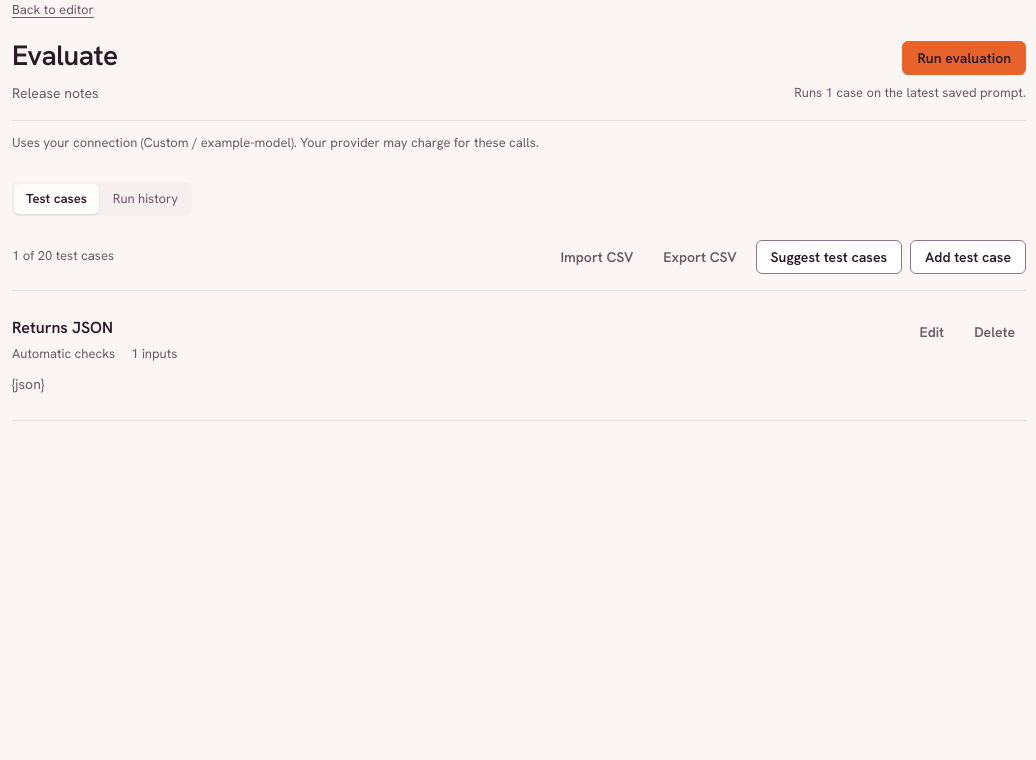
keeps failed edits on screen and sends empty strings when clearing stored fields
Check: the heading "Evaluate" is shown, box [12,33,118,78]
Click the button with aria-label "Edit Returns JSON". click: click(932, 332)
box: [909,315,955,349]
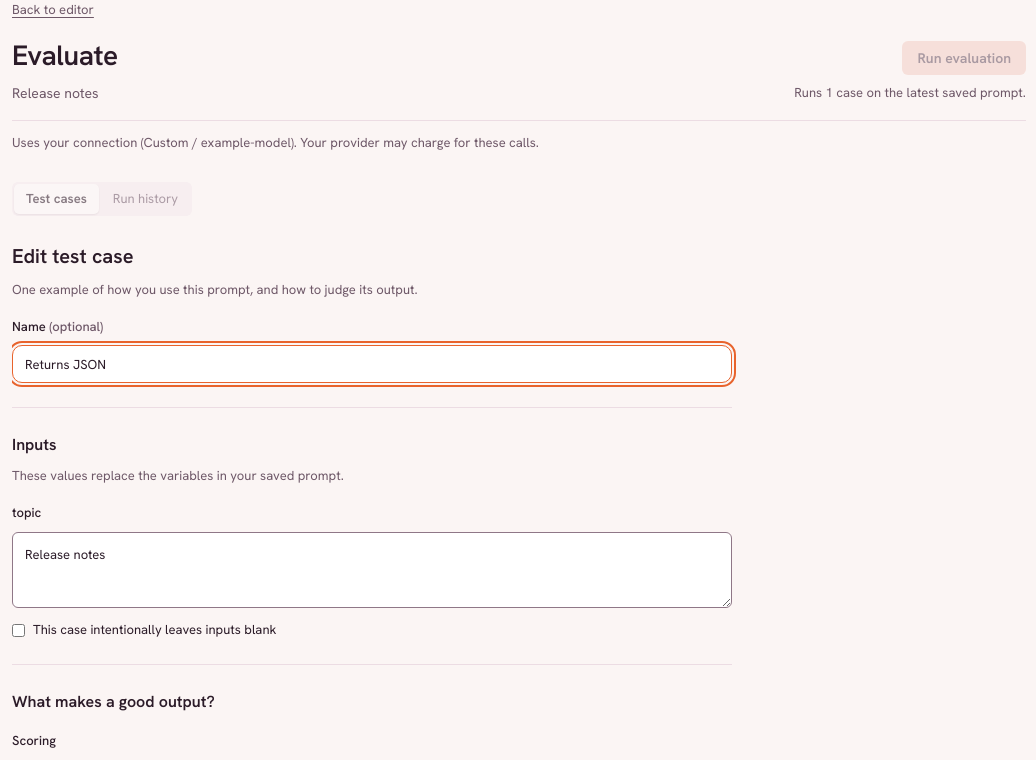
Clear the field labelled "Name (optional)". click: (372, 364)
box: [12,345,732,383]
(page scrolled)
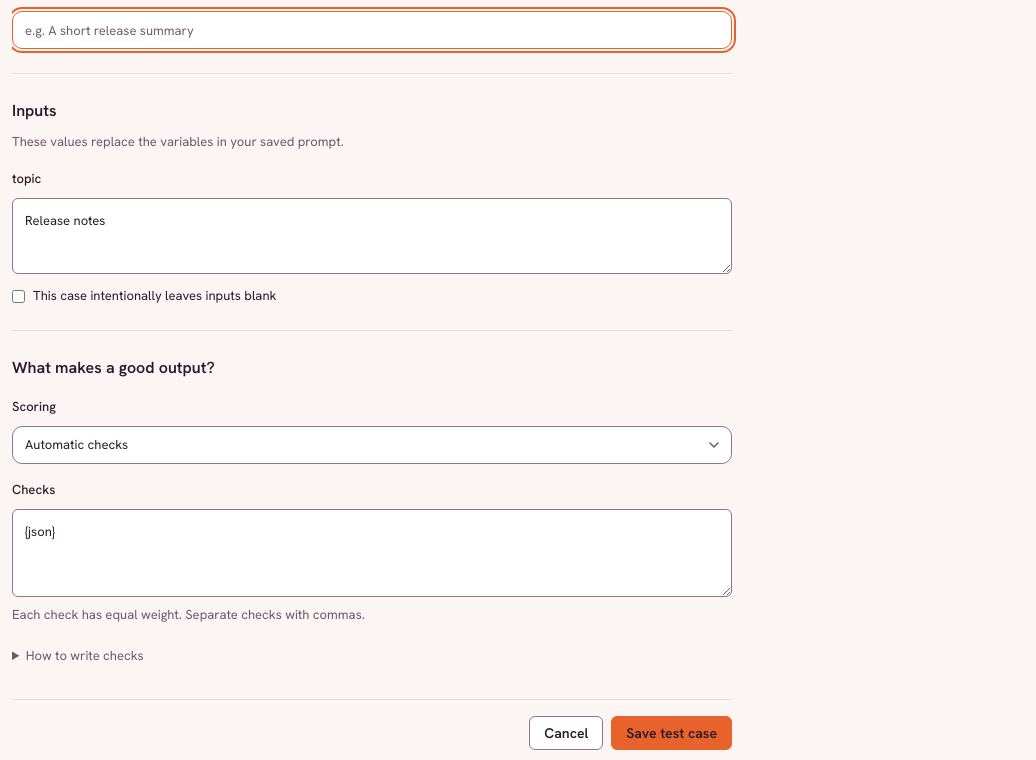
Select "Manual review" in the dropdown labelled "Scoring". click: (372, 445)
box: [12,426,732,464]
(page scrolled)
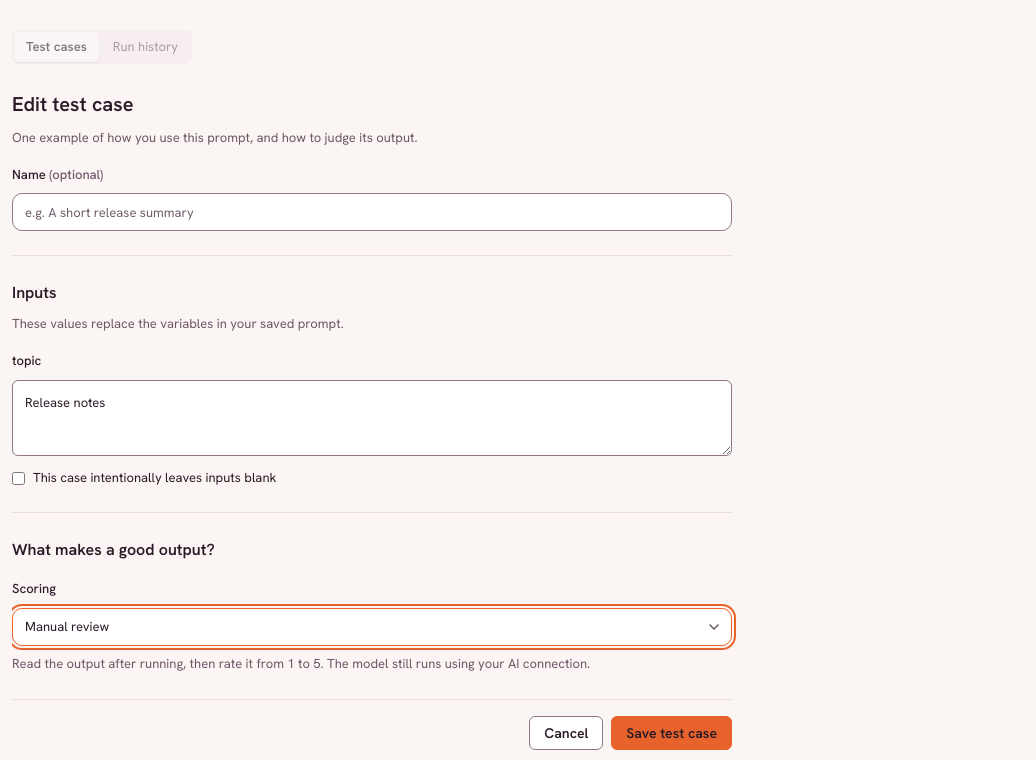
Click the button "Save test case". click: click(672, 732)
box: [611,716,732,750]
(page scrolled)
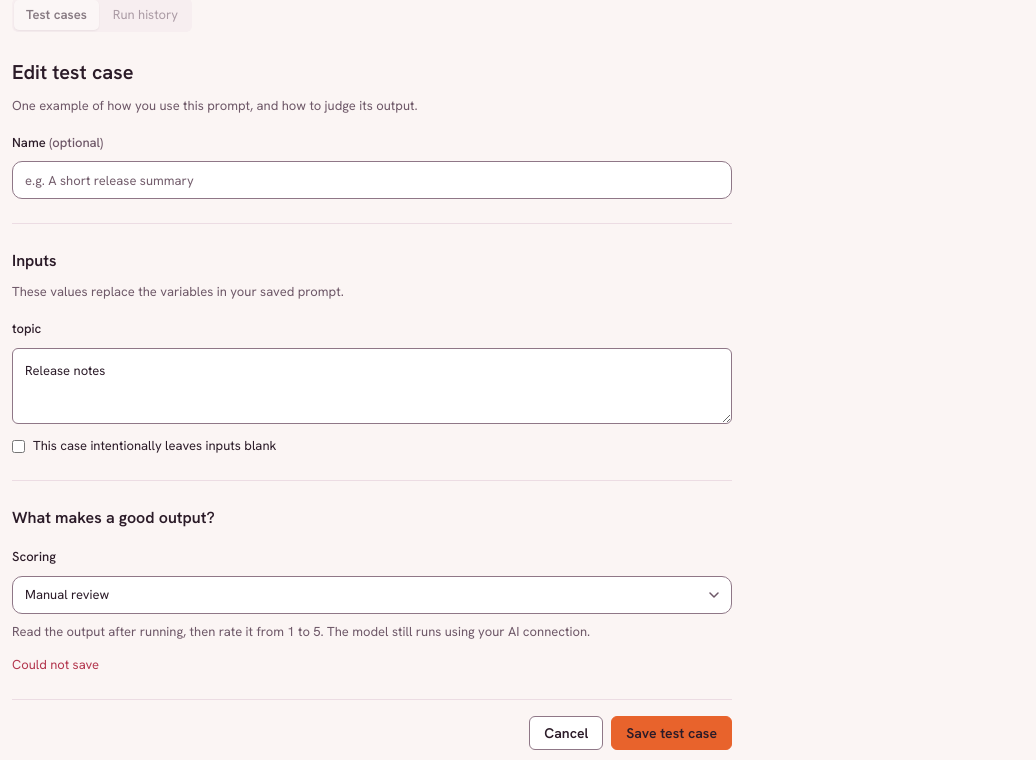
Check: the message reads "Could not save", box [12,656,99,672]
Click the button "Save test case". click: click(672, 733)
box: [611,716,732,750]
(page scrolled)
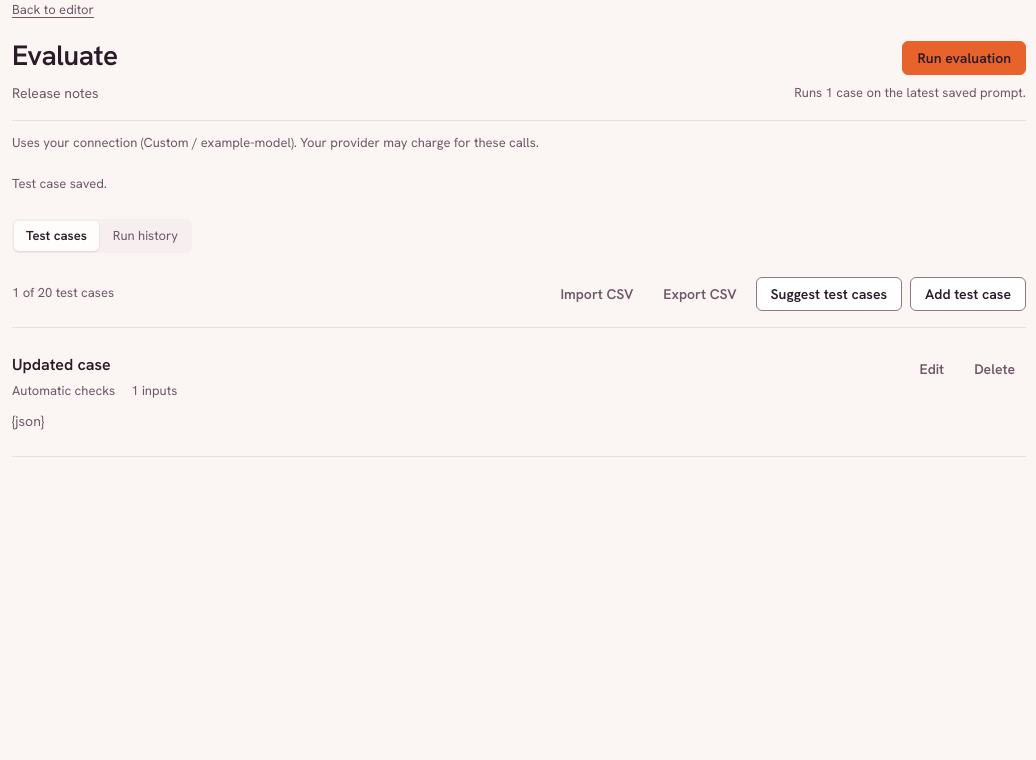
Check: the heading "Updated case" is shown, box [12,354,111,375]
